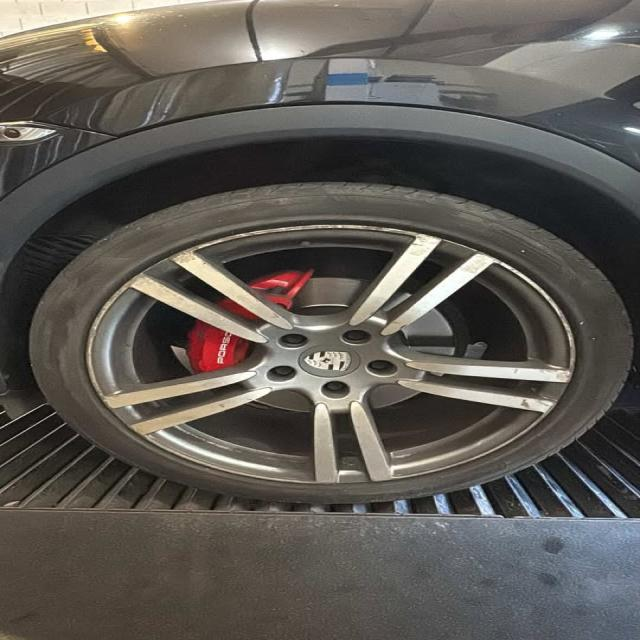jante: (86, 222, 580, 485)
parafuso: (260, 363, 300, 385), (366, 356, 402, 380), (272, 332, 314, 352), (316, 380, 355, 400), (338, 328, 376, 348)
roda: (28, 179, 636, 504)
